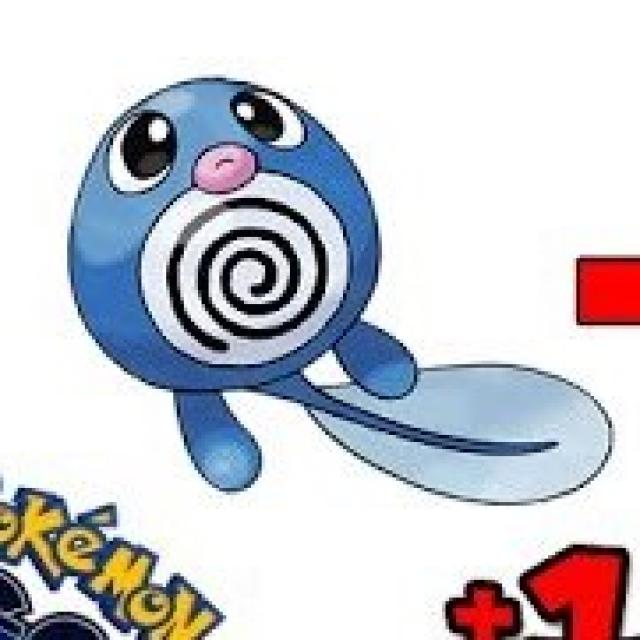Poliwag: (68, 68, 434, 434)
